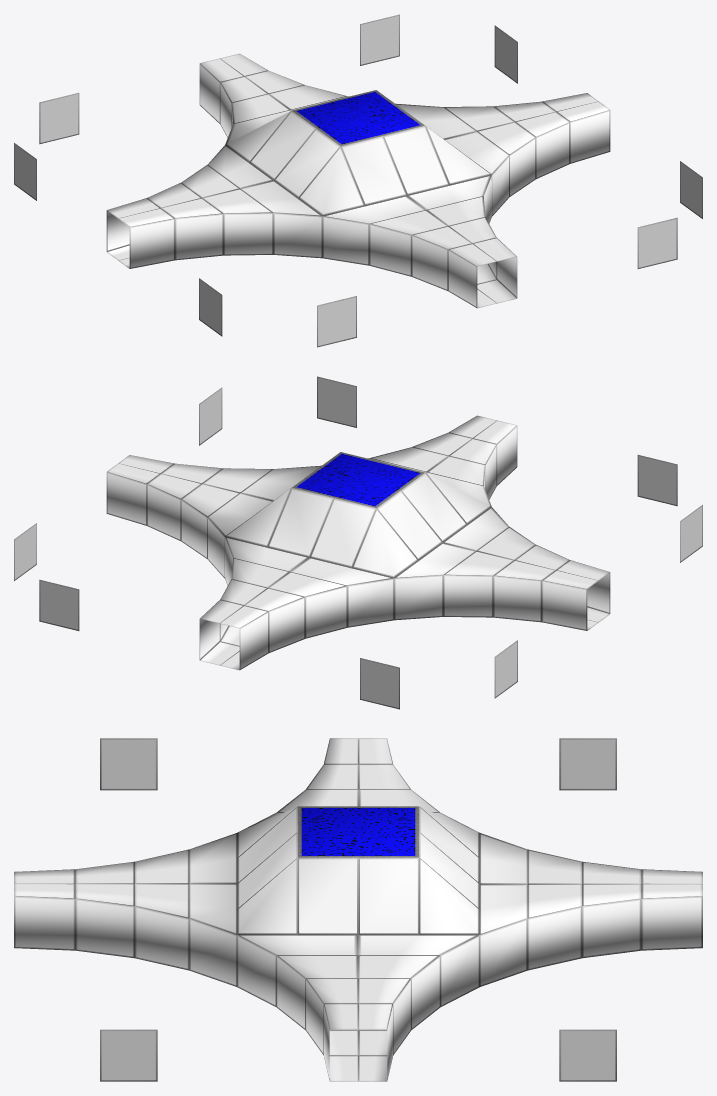
File: large 4 way.fbx
3 views of the same model, one above another, from view 1: azimuth 30°, elevation 25°; view 2: azimuth 150°, elevation 25°; view 3: azimuth 270°, elevation 25° (orthographic). The views are drawn at different scales.
Visible parts, largest first — view 1: Cylinder; view 2: Cylinder; view 3: Cylinder.
Part boxes in pixels (left/top/right/bottom): Cylinder: left=14, top=14, right=702, bottom=347; Cylinder: left=14, top=376, right=702, bottom=709; Cylinder: left=14, top=738, right=702, bottom=1081.
Bounding box in the file's own units: 48 × 10 × 48.
